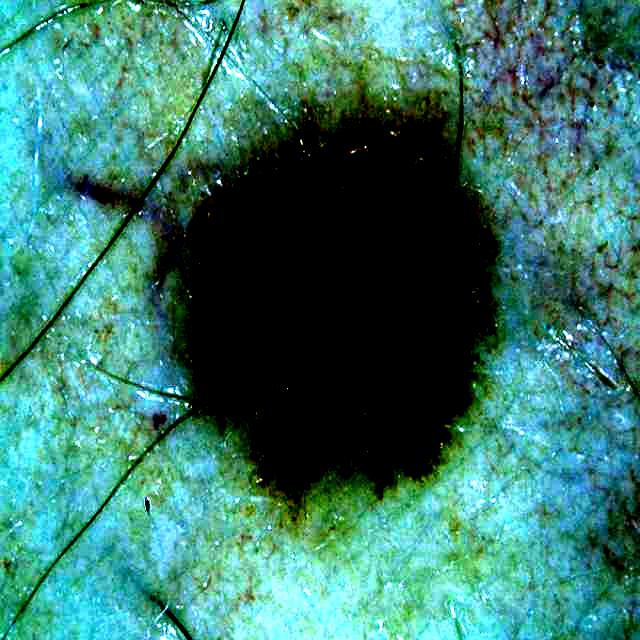NV: (207, 132, 479, 471)
